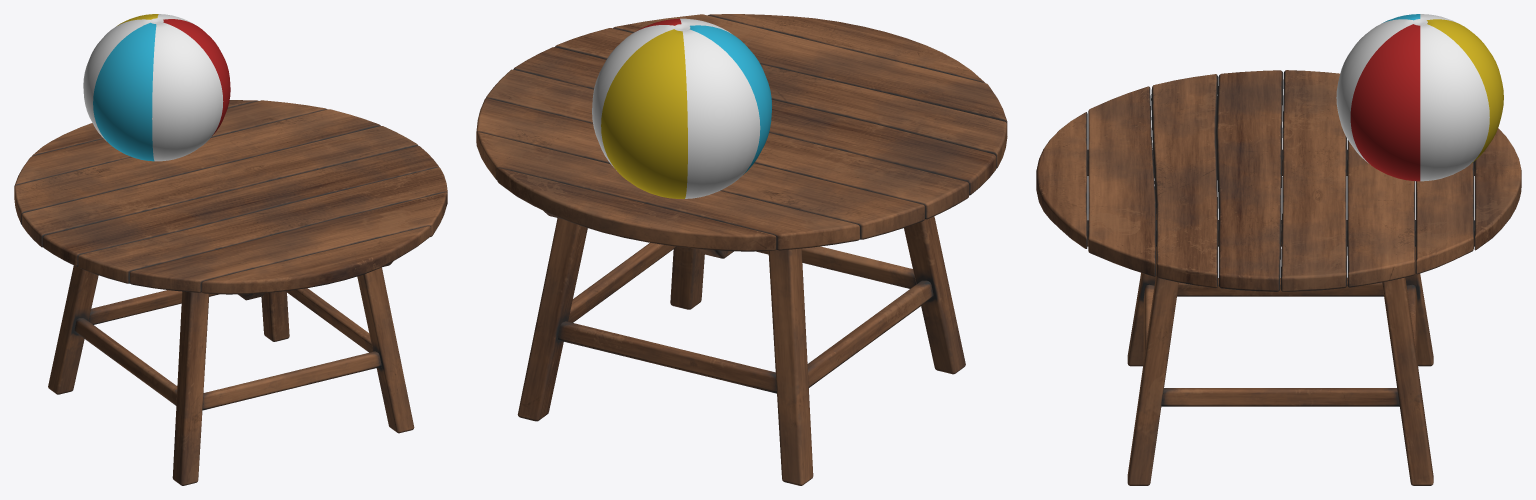
The model's file is newTable2_B.glb.
The picture shows the model from 3 angles, left to right: view 1: azimuth 30°, elevation 25°; view 2: azimuth 150°, elevation 25°; view 3: azimuth 270°, elevation 25°; orthographic projection. The views are drawn at different scales.
Parts seen in each view (by area): view 1: Table, Sphere; view 2: Table, Sphere; view 3: Table, Sphere.
Part boxes in pixels (box(x1,y1,x2,y2)): Table: box(14, 100, 447, 485); Sphere: box(83, 14, 230, 161); Table: box(476, 14, 1007, 485); Sphere: box(592, 18, 772, 198); Table: box(1036, 70, 1521, 485); Sphere: box(1336, 14, 1503, 181).
Bounding box in the file's own units: 2 × 1.76 × 1.97.
5 materials, 1 textured.
